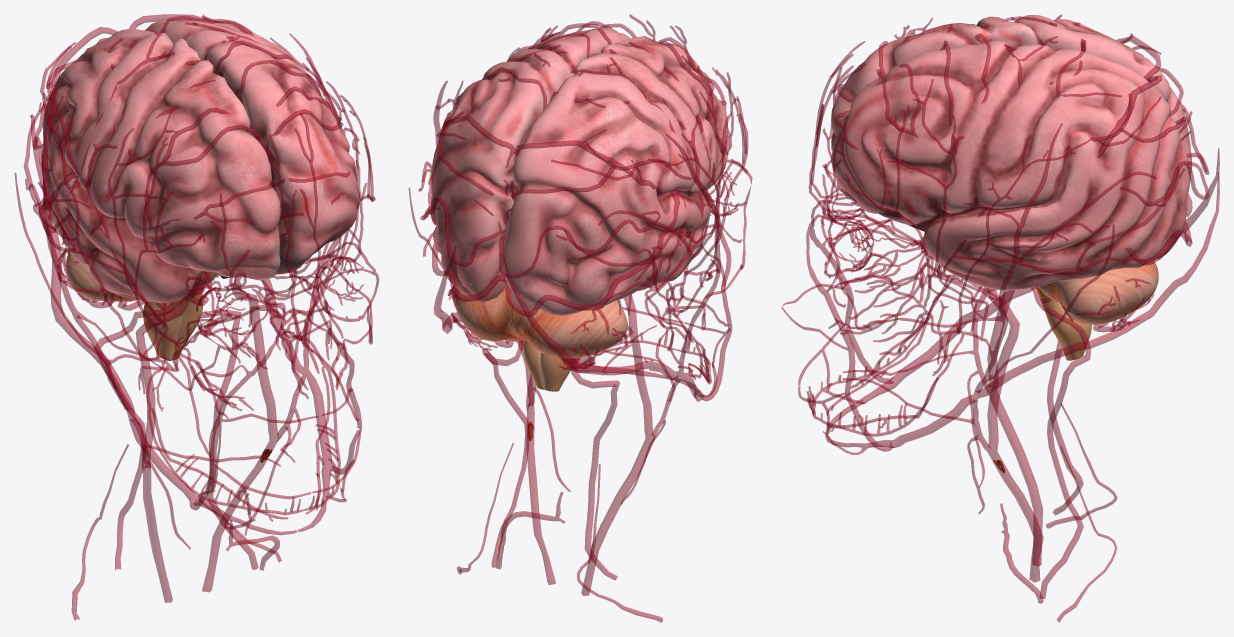
3 renders of one model, left to right at view 1: azimuth 30°, elevation 25°; view 2: azimuth 150°, elevation 25°; view 3: azimuth 270°, elevation 25°, orthographic. The views are drawn at different scales.
Visible parts, largest first — view 1: brain, arteries, braindan, arterie; view 2: brain, arteries, braindan, arterie; view 3: braindan, arteries, brain, arterie.
Part boxes in pixels (bbox=[...]): brain: bbox=[41, 28, 280, 360]; arteries: bbox=[14, 14, 379, 620]; braindan: bbox=[144, 18, 359, 274]; arterie: bbox=[129, 14, 277, 592]; brain: bbox=[451, 36, 729, 391]; arteries: bbox=[408, 14, 752, 622]; braindan: bbox=[431, 28, 629, 302]; arterie: bbox=[442, 115, 555, 584]; braindan: bbox=[831, 40, 1190, 290]; arteries: bbox=[781, 14, 1219, 622]; brain: bbox=[831, 15, 1192, 360]; arterie: bbox=[986, 75, 1162, 582].
Size of the model in its own units: 0.8969 by 1.64 by 1.18.
4 materials, 2 textured.
